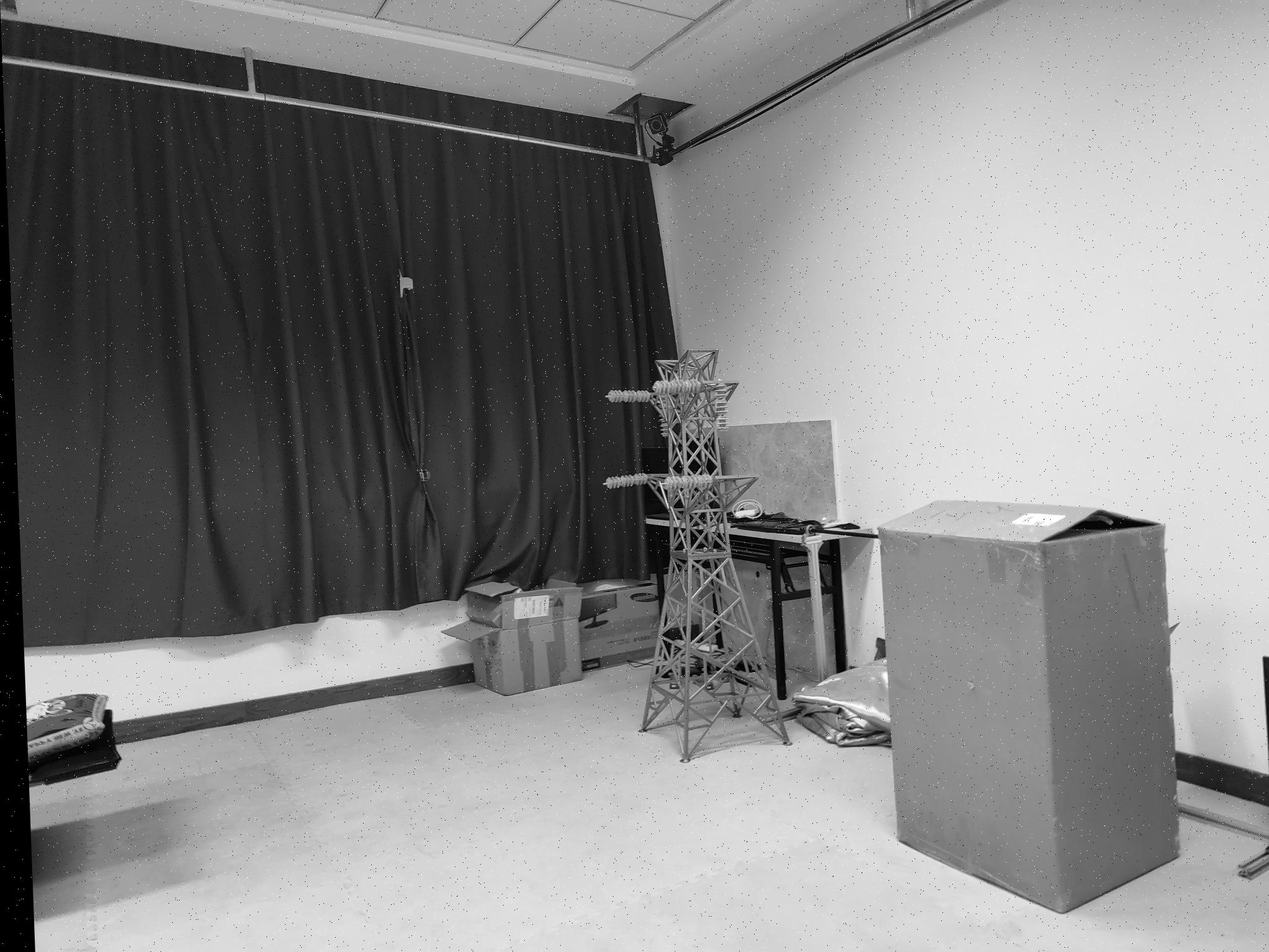tower: (628, 351, 792, 750)
